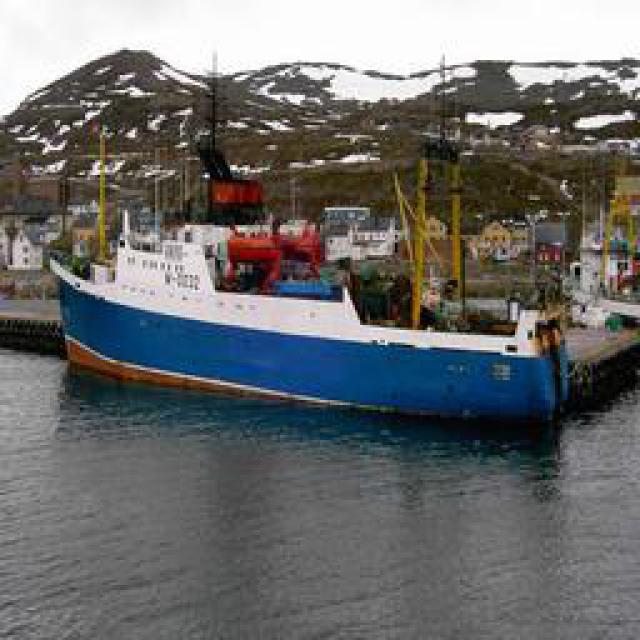Ship: (45, 177, 598, 425)
